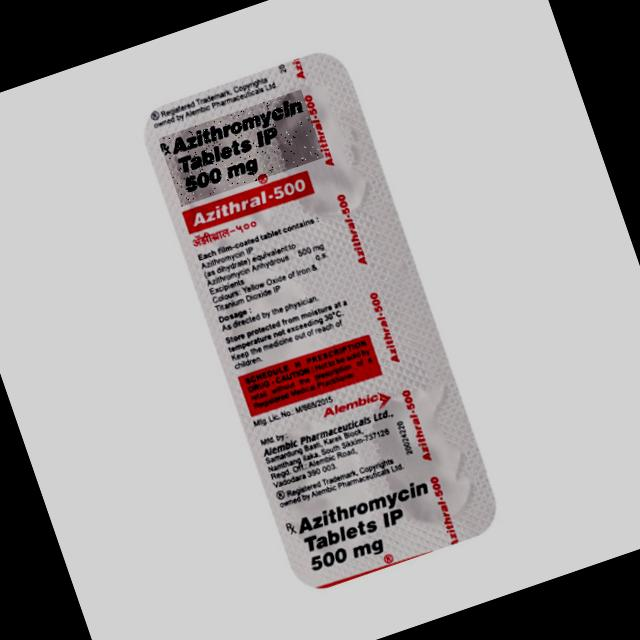Medicine-name: (159, 90, 325, 207)
